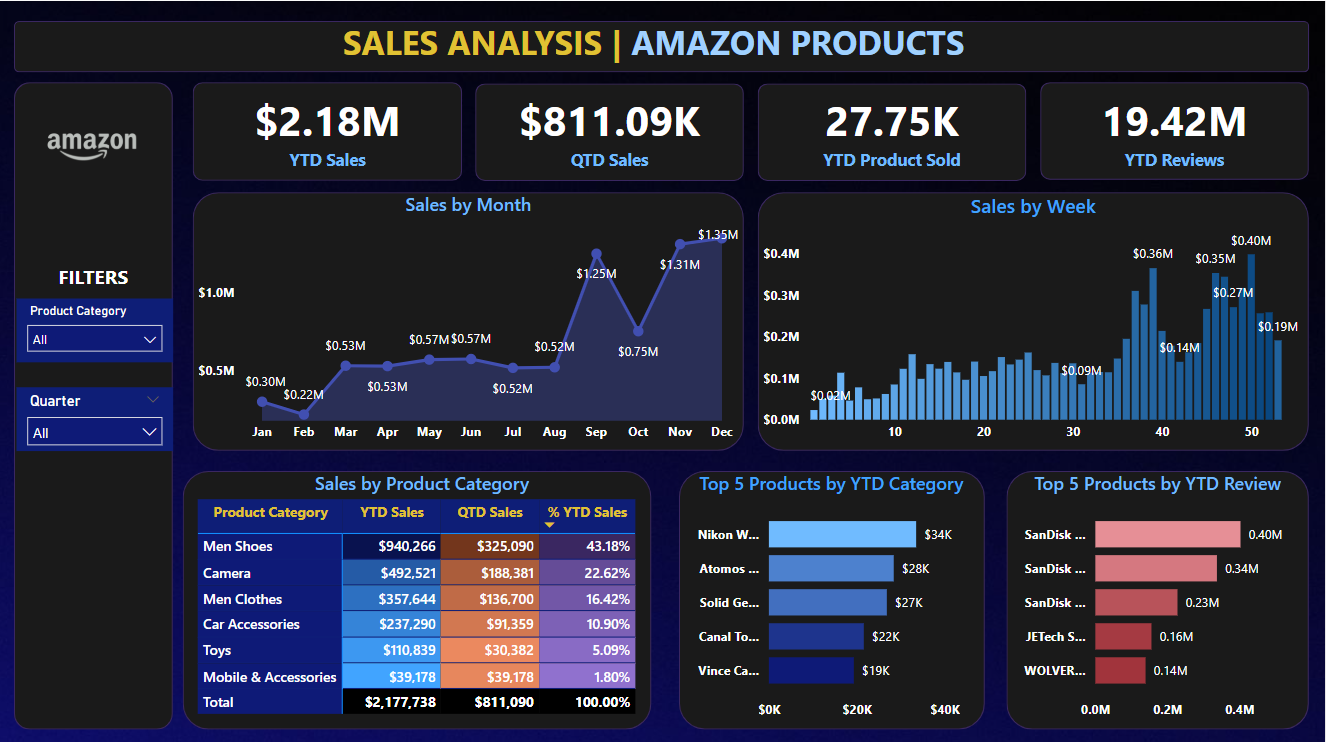

Layout of this report page (visuals, bound fields, positions):
{"tool":"powerbi","page":{"name":"Page 1","canvas":[1280,720],"ordinal":0},"visuals":[{"type":"shape","box":[14.5,19.3,1250,49.5],"z":0},{"type":"textbox","box":[326.9,13.3,624.9,55.5],"z":1000},{"type":"shape","box":[14.5,78.4,153.2,624.9],"z":2000},{"type":"shape","box":[187,78.4,260,95],"z":3000},{"type":"card","fields":{"Values":["Amazon_Data.YTD Sales"]},"box":[187,77.2,260.6,95.3],"z":4000},{"type":"shape","box":[460.1,79.6,259.4,94.1],"z":5000},{"type":"shape","box":[732.5,79.6,259.4,94.1],"z":6000},{"type":"shape","box":[1005,78.4,259.4,94.1],"z":7000},{"type":"card","fields":{"Values":["Amazon_Data.QTD Sales"]},"box":[459.7,77.2,259.4,95.3],"z":8000},{"type":"card","fields":{"Values":["Amazon_Data.YTD Product Sold"]},"box":[732.3,77.2,259.4,95.3],"z":9000},{"type":"card","fields":{"Values":["Amazon_Data.YTD Reviews"]},"box":[1005,77.2,259.4,95.3],"z":10000},{"type":"shape","box":[187,184.6,532,249.7],"z":11000},{"type":"areaChart","title":"Sales by Month","fields":{"Category":["Date Table.Month Name"],"Y":["Sum(Amazon_Data.Price(Dollar))"]},"box":[187,184.6,532,249.7],"z":12000},{"type":"shape","box":[732.3,184.6,532,249.7],"z":13000},{"type":"columnChart","title":"Sales by Week","fields":{"Category":["Date Table.Week No"],"Y":["Sum(Amazon_Data.Price(Dollar))"]},"box":[732.3,184.6,532,249.7],"z":14000},{"type":"shape","box":[177.3,453.6,452.4,249.7],"z":15000},{"type":"pivotTable","title":"Sales by Product Category","fields":{"Rows":["Amazon_Data.Product Category"],"Values":["Amazon_Data.YTD Sales1","Amazon_Data.QTD Sales","Amazon_Data.YTD Sales"]},"box":[187,453.6,442.8,249.7],"z":16000},{"type":"shape","box":[656.3,453.6,295.6,249.7],"z":17000},{"type":"shape","box":[972.4,453.6,292,249.7],"z":18000},{"type":"barChart","title":"Top 5 Products by YTD Category","fields":{"Category":["Amazon_Data.Product Description"],"Y":["Amazon_Data.YTD Sales"]},"box":[656.3,453.6,294.4,248.5],"z":19000},{"type":"barChart","title":"Top 5 Products by YTD Review","fields":{"Category":["Amazon_Data.Product Description"],"Y":["Amazon_Data.YTD Reviews"]},"box":[972.4,453.6,292,248.5],"z":20000},{"type":"slicer","fields":{"Values":["Amazon_Data.Product Category"]},"box":[16.9,287.1,150.8,61.5],"z":20001},{"type":"slicer","fields":{"Values":["Date Table.Qtr"]},"box":[16.9,372.8,150.8,61.5],"z":20002},{"type":"image","box":[14.5,113.4,153.2,59.1],"z":20003},{"type":"textbox","box":[14.5,248.5,153.2,38.6],"z":20004}]}

Visuals, with their boxes in screenshot pixels (x1, y1, x2, y2), scaled from the page's 1280x720 canvas onto the 1326x742 screenshot:
shape: <box>15,20,1310,71</box>
textbox: <box>339,14,986,71</box>
shape: <box>15,81,174,725</box>
shape: <box>194,81,463,179</box>
card - Amazon_Data.YTD Sales: <box>194,80,464,178</box>
shape: <box>477,82,745,179</box>
shape: <box>759,82,1028,179</box>
shape: <box>1041,81,1310,178</box>
card - Amazon_Data.QTD Sales: <box>476,80,745,178</box>
card - Amazon_Data.YTD Product Sold: <box>759,80,1027,178</box>
card - Amazon_Data.YTD Reviews: <box>1041,80,1310,178</box>
shape: <box>194,190,745,448</box>
"Sales by Month" areaChart: <box>194,190,745,448</box>
shape: <box>759,190,1310,448</box>
"Sales by Week" columnChart: <box>759,190,1310,448</box>
shape: <box>184,467,652,725</box>
"Sales by Product Category" pivotTable: <box>194,467,652,725</box>
shape: <box>680,467,986,725</box>
shape: <box>1007,467,1310,725</box>
"Top 5 Products by YTD Category" barChart: <box>680,467,985,724</box>
"Top 5 Products by YTD Review" barChart: <box>1007,467,1310,724</box>
slicer - Amazon_Data.Product Category: <box>18,296,174,359</box>
slicer - Date Table.Qtr: <box>18,384,174,448</box>
image: <box>15,117,174,178</box>
textbox: <box>15,256,174,296</box>
